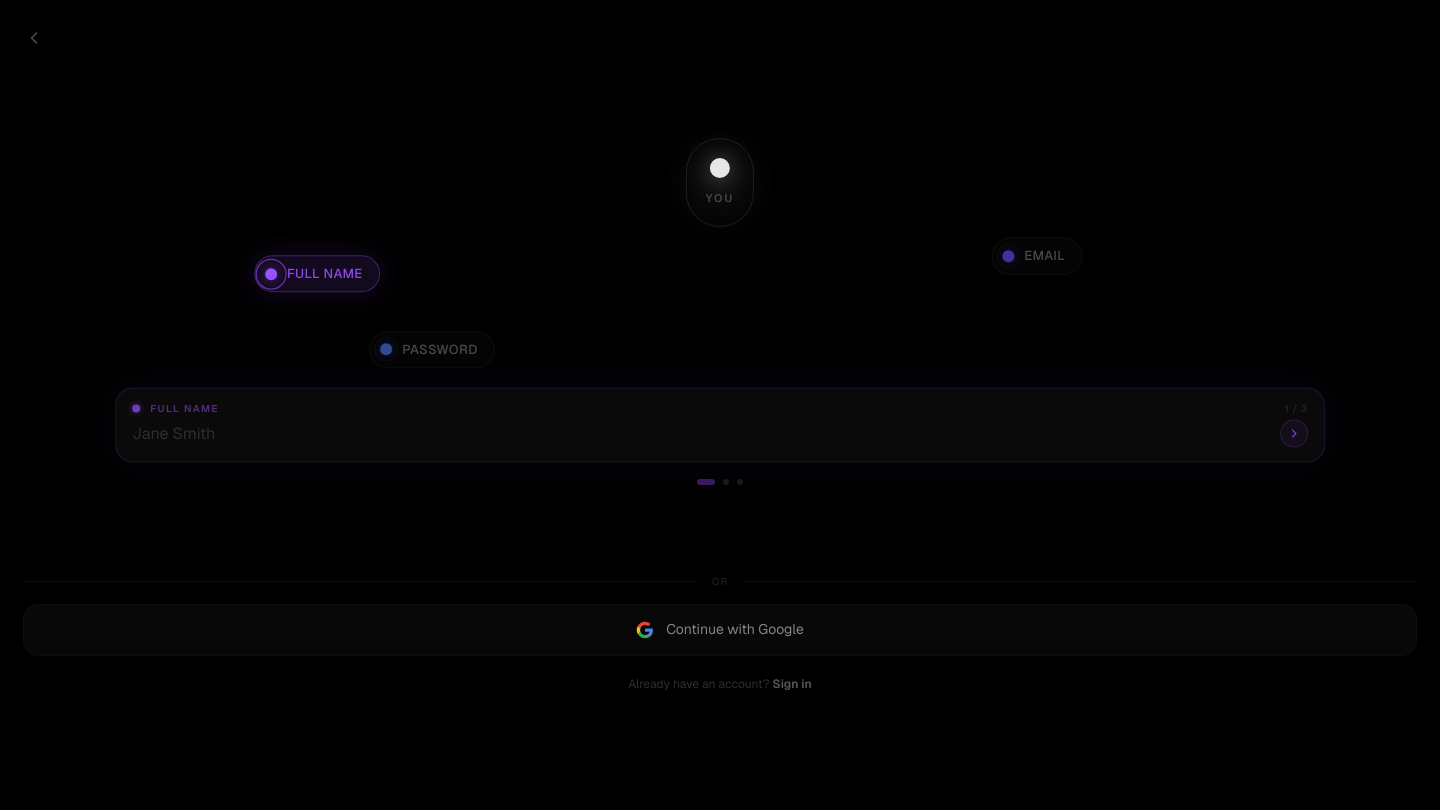
SignupContent › shows error message when signup fails
The width and height of the screenshot is (1440, 810).
In the field with placeholder "Jane Smith": {"x": 702, "y": 434} x1=132 y1=422 x2=1272 y2=446, type "Test User"
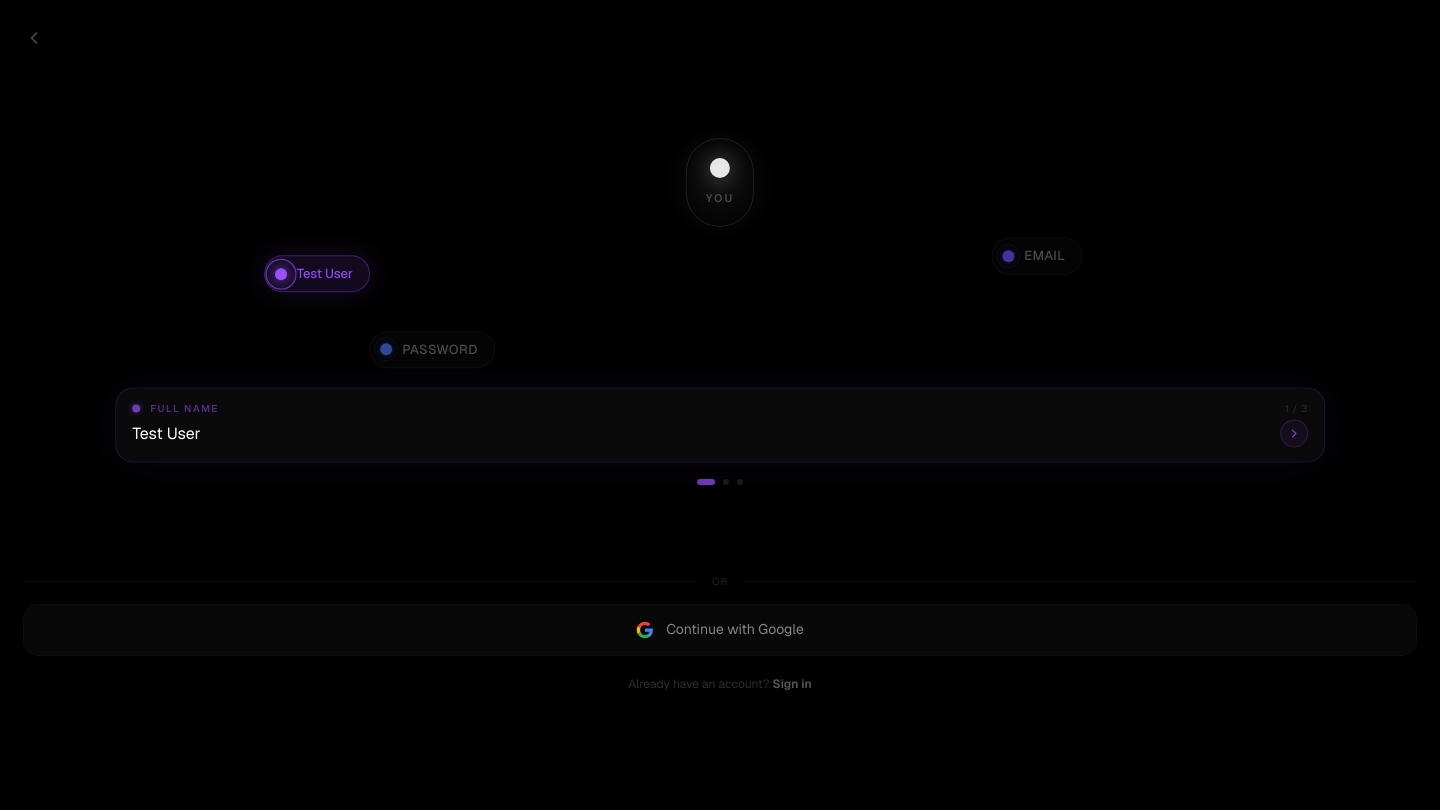
Click the button without text below "Email": {"x": 1294, "y": 434} x1=1280 y1=420 x2=1308 y2=448
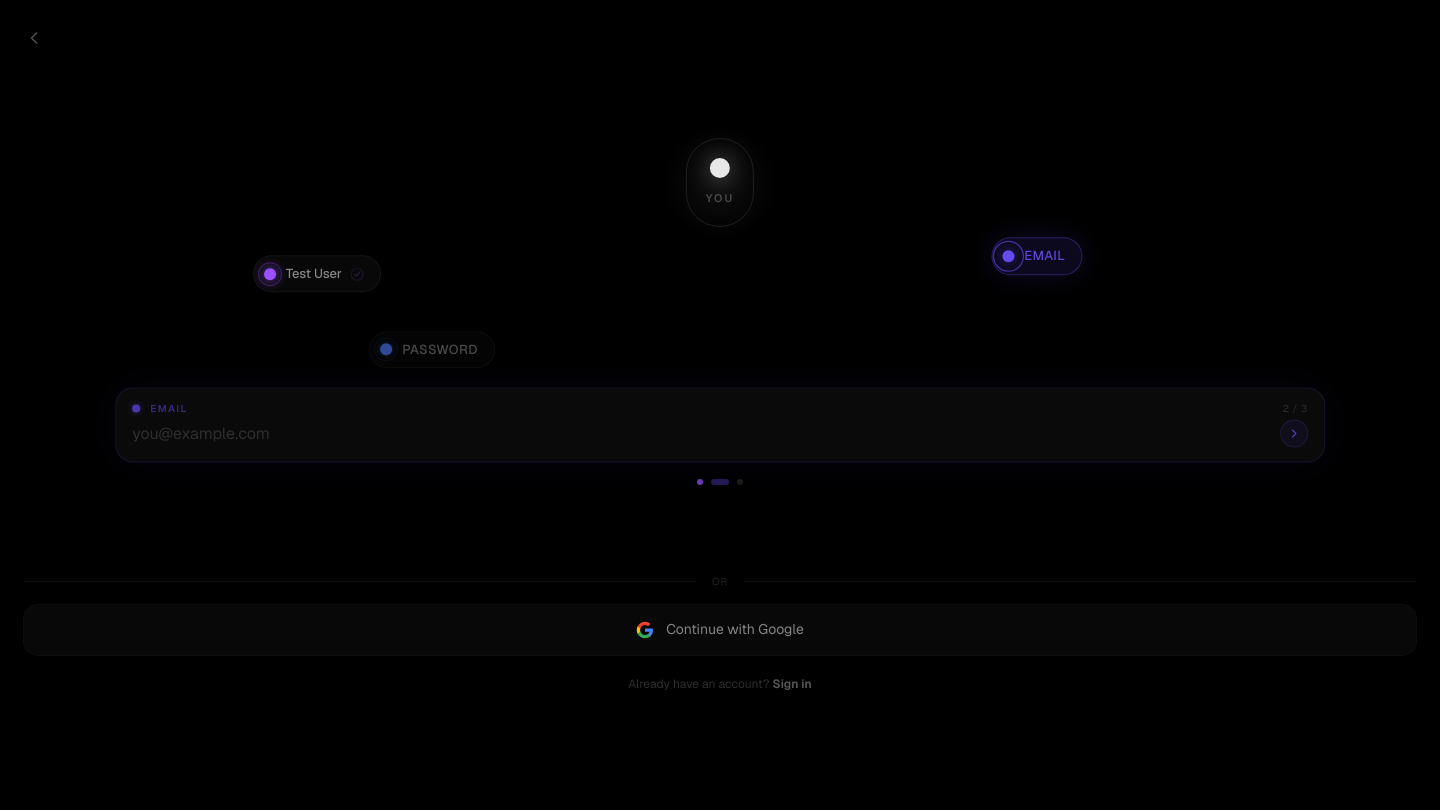
Now the field with placeholder "you@example.com" is shown
In the field with placeholder "you@example.com": {"x": 702, "y": 434} x1=132 y1=422 x2=1272 y2=446, type "test@example.com"
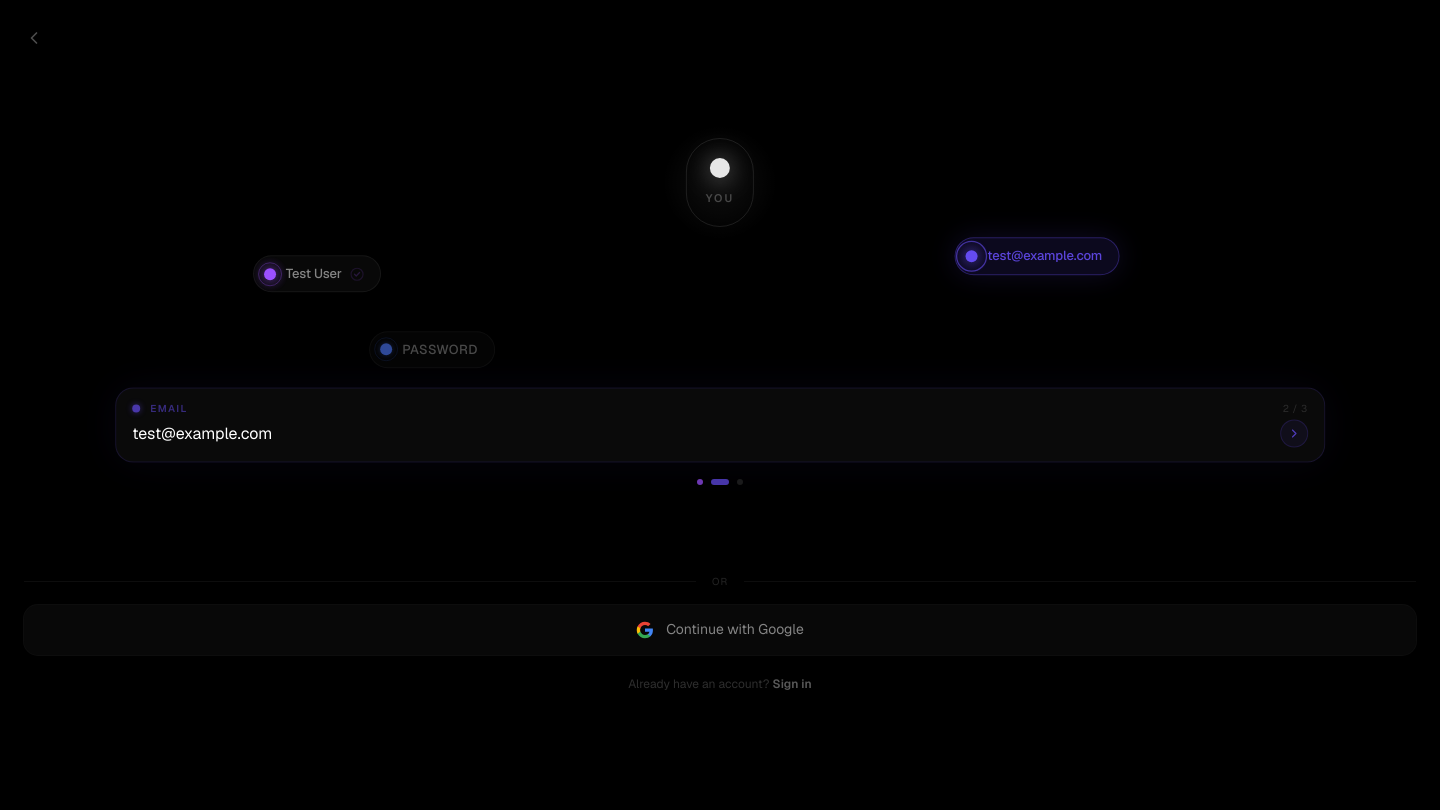
Click the button without text below "test@example.com": {"x": 1294, "y": 434} x1=1280 y1=420 x2=1308 y2=448
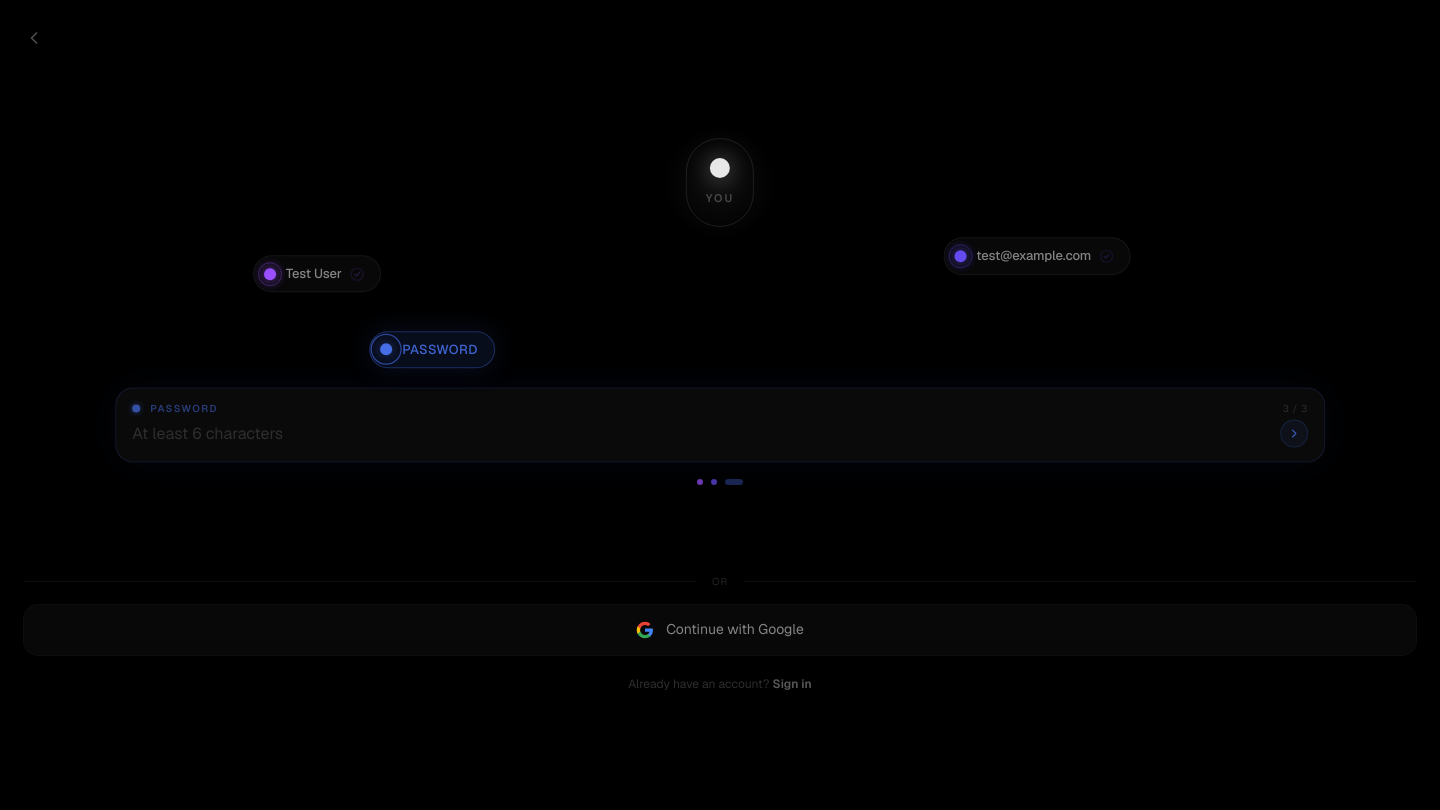
Now the password field with placeholder "At least 6 characters" is shown
In the password field with placeholder "At least 6 characters": {"x": 702, "y": 434} x1=132 y1=422 x2=1272 y2=446, type "password123"
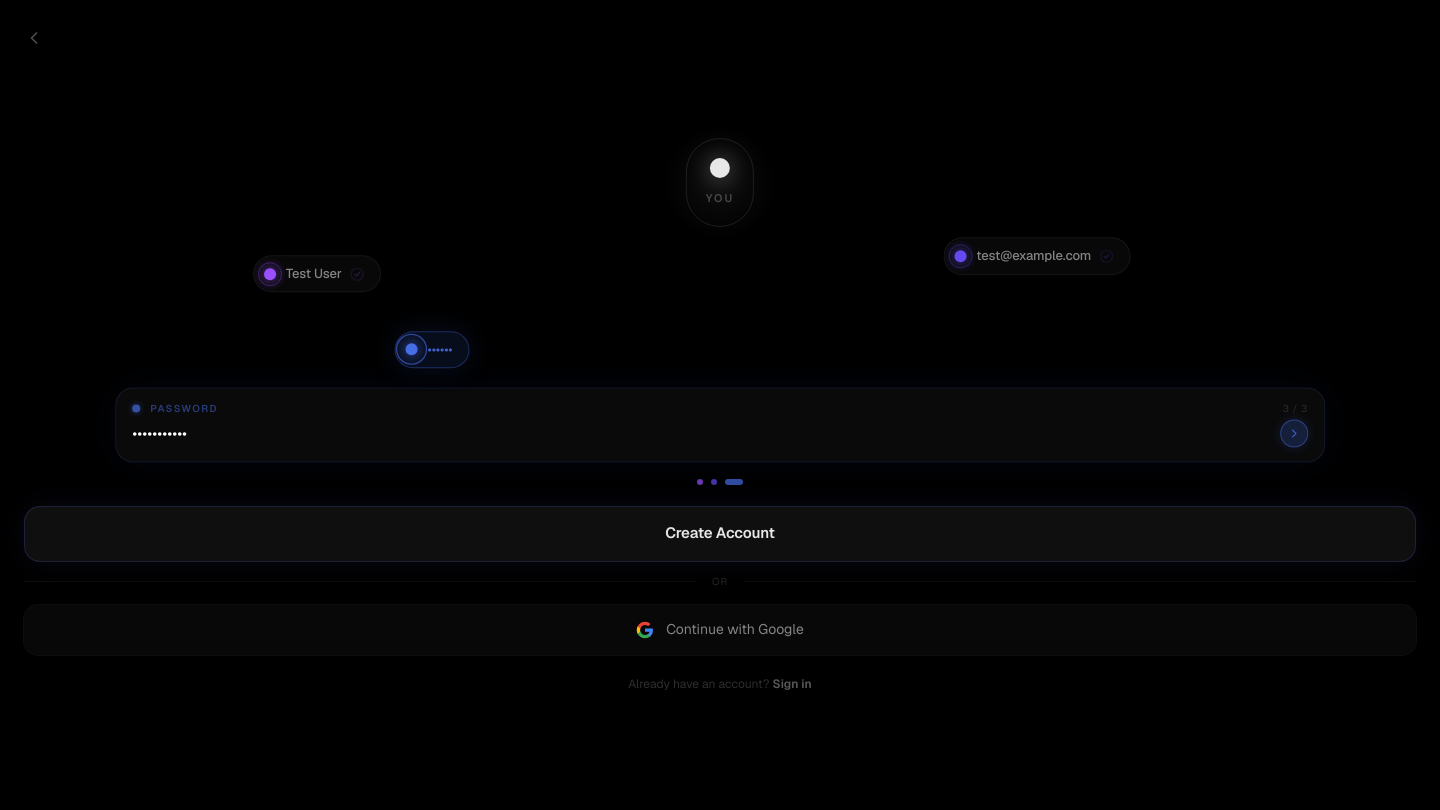
Click the button "Create Account": {"x": 720, "y": 534} x1=24 y1=506 x2=1416 y2=562
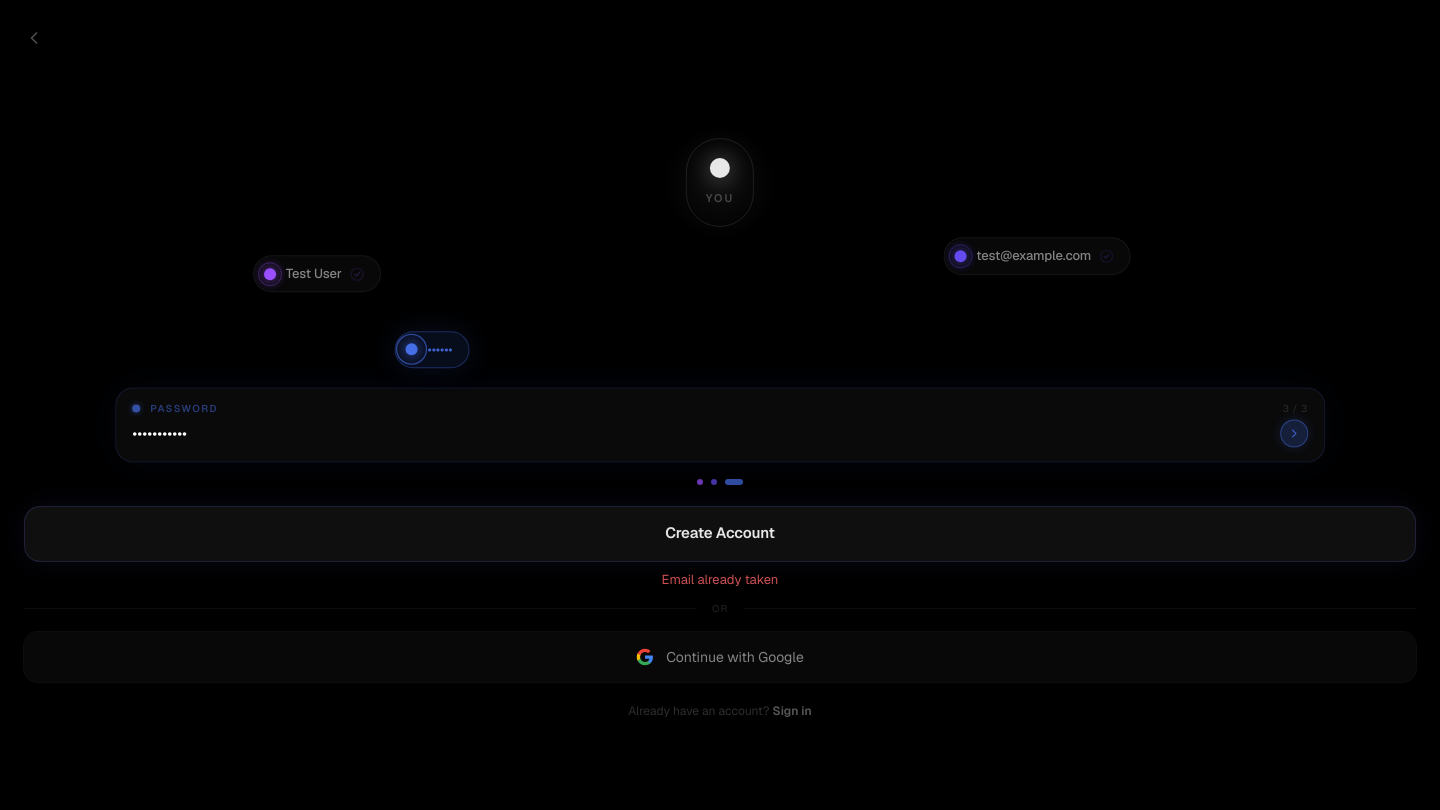
Now the text "Email already taken" is shown, box x1=662 y1=570 x2=778 y2=588
